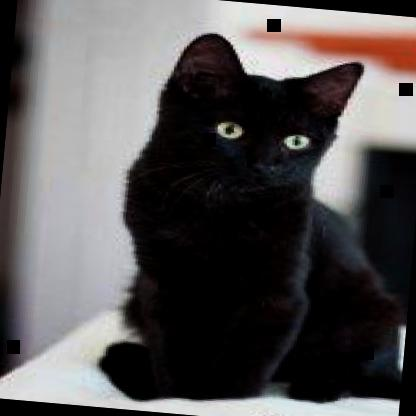cat: (96, 25, 415, 415)
